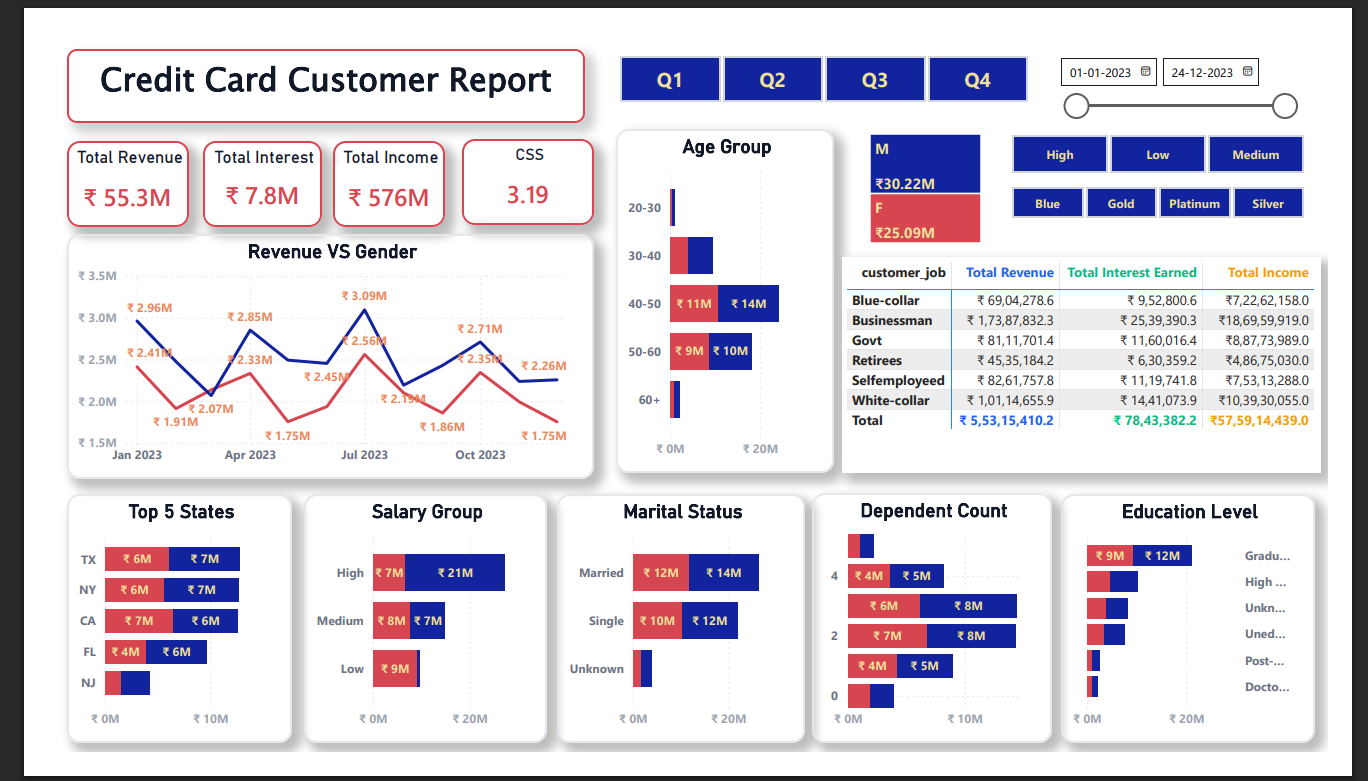

The page's visual inventory and layout, read from the dashboard file:
{"tool":"powerbi","page":{"name":"Customer Report","canvas":[1280,720],"ordinal":1},"visuals":[{"type":"textbox","box":[19,17.3,518.4,73.3],"z":0},{"type":"slicer","fields":{"Values":["public cc_detail.qtr"]},"box":[546.4,17.3,457.3,60],"z":1000},{"type":"slicer","fields":{"Values":["public cc_detail.card_category"]},"box":[938.2,148.2,341.8,44.5],"z":2000},{"type":"slicer","fields":{"Values":["public cust_detail.IncomeGroup"]},"box":[938.2,96.4,341.8,51.8],"z":3000},{"type":"slicer","fields":{"Values":["public cc_detail.week_start_date"]},"box":[1004,17.3,250.1,73.3],"z":4000},{"type":"barChart","title":"Age Group","fields":{"Category":["public cust_detail.AgeGroup"],"Series":["public cust_detail.gender"],"Y":["public cc_detail.Total Revenue"]},"box":[567.5,96.6,218.2,344.2],"z":5000},{"type":"cardVisual","title":"Total Revenue","fields":{"Data":["public cc_detail.Total Revenue"]},"box":[19.1,109.1,121.8,85.5],"z":6000},{"type":"cardVisual","title":"Total Interest","fields":{"Data":["public cc_detail.Total Interest Earned"]},"box":[154.5,109.1,119.1,85.5],"z":7000},{"type":"cardVisual","title":"Total Income","fields":{"Data":["Sum(public cust_detail.income)"]},"box":[284.5,109.1,112.7,85.5],"z":8000},{"type":"cardVisual","title":"CSS","fields":{"Data":["Avg(public cust_detail.cust_satisfaction_score)"]},"box":[413.6,107.3,132.7,85.5],"z":9000},{"type":"treemap","fields":{"Group":["public cust_detail.gender"],"Values":["Sum(public cc_detail.Revenue)"]},"box":[816.8,96.6,121.6,119],"z":10000},{"type":"lineChart","title":"Revenue VS Gender","fields":{"Category":["public cc_detail.week_start_date.Variation.Date Hierarchy.Year","public cc_detail.week_start_date.Variation.Date Hierarchy.Month","public cc_detail.week_start_date.Variation.Date Hierarchy.Day"],"Series":["public cust_detail.gender"],"Y":["public cc_detail.Total Revenue"]},"box":[19,201.8,527,245],"z":11000},{"type":"barChart","title":"Top 5 States","fields":{"Category":["public cust_detail.state_cd"],"Series":["public cust_detail.gender"],"Y":["public cc_detail.Total Revenue"]},"box":[19,462.3,225.1,248.4],"z":12000},{"type":"pivotTable","fields":{"Rows":["public cust_detail.customer_job"],"Values":["public cc_detail.Total Revenue","public cc_detail.Total Interest Earned","public cust_detail.Total Income"]},"box":[794.4,225.1,478.7,215.6],"z":13000},{"type":"barChart","title":"Salary Group","fields":{"Category":["public cust_detail.IncomeGroup"],"Y":["public cc_detail.Total Revenue"],"Series":["public cust_detail.gender"]},"box":[256.2,462.3,242.4,248.4],"z":13001},{"type":"barChart","title":"Marital Status","fields":{"Category":["public cust_detail.marital_status"],"Series":["public cust_detail.gender"],"Y":["public cc_detail.Total Revenue"]},"box":[508.9,462.3,248.4,248.4],"z":13002},{"type":"barChart","title":"Dependent Count","fields":{"Category":["public cust_detail.dependent_count"],"Series":["public cust_detail.gender"],"Y":["public cc_detail.Total Revenue"]},"box":[764.2,461.5,239.8,249.3],"z":13003},{"type":"barChart","title":"Education Level","fields":{"Category":["public cust_detail.education_level"],"Series":["public cust_detail.gender"],"Y":["public cc_detail.Total Revenue"]},"box":[1013.5,462.3,253.6,248.4],"z":13004}]}

Visuals, with their boxes in screenshot pixels (x1, y1, x2, y2), scaled from the page's 1280x720 canvas onto the 1368x781 screenshot:
textbox: [x1=20, y1=19, x2=574, y2=98]
slicer - public cc_detail.qtr: [x1=584, y1=19, x2=1073, y2=84]
slicer - public cc_detail.card_category: [x1=1003, y1=161, x2=1367, y2=209]
slicer - public cust_detail.IncomeGroup: [x1=1003, y1=105, x2=1367, y2=161]
slicer - public cc_detail.week_start_date: [x1=1073, y1=19, x2=1340, y2=98]
"Age Group" barChart: [x1=607, y1=105, x2=840, y2=478]
"Total Revenue" cardVisual: [x1=20, y1=118, x2=151, y2=211]
"Total Interest" cardVisual: [x1=165, y1=118, x2=292, y2=211]
"Total Income" cardVisual: [x1=304, y1=118, x2=425, y2=211]
"CSS" cardVisual: [x1=442, y1=116, x2=584, y2=209]
treemap - public cust_detail.gender x Sum(public cc_detail.Revenue): [x1=873, y1=105, x2=1003, y2=234]
"Revenue VS Gender" lineChart: [x1=20, y1=219, x2=584, y2=485]
"Top 5 States" barChart: [x1=20, y1=501, x2=261, y2=771]
pivotTable - public cust_detail.customer_job x public cc_detail.Total Revenue: [x1=849, y1=244, x2=1361, y2=478]
"Salary Group" barChart: [x1=274, y1=501, x2=533, y2=771]
"Marital Status" barChart: [x1=544, y1=501, x2=809, y2=771]
"Dependent Count" barChart: [x1=817, y1=501, x2=1073, y2=771]
"Education Level" barChart: [x1=1083, y1=501, x2=1354, y2=771]
